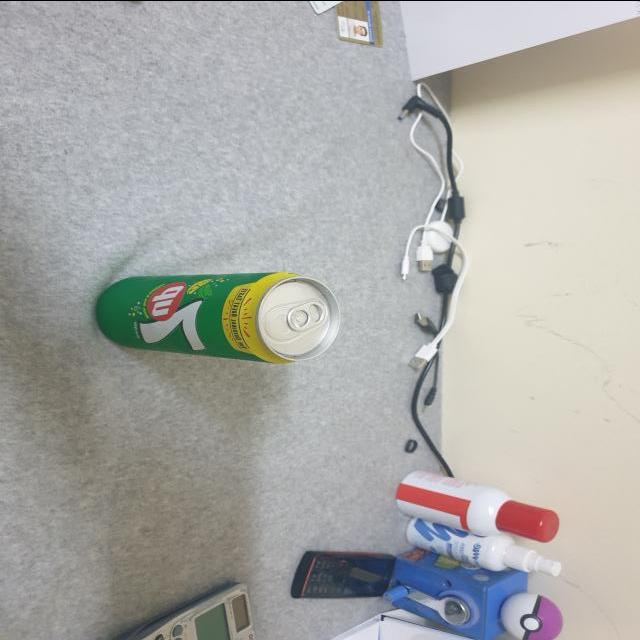can: (98, 267, 340, 362)
